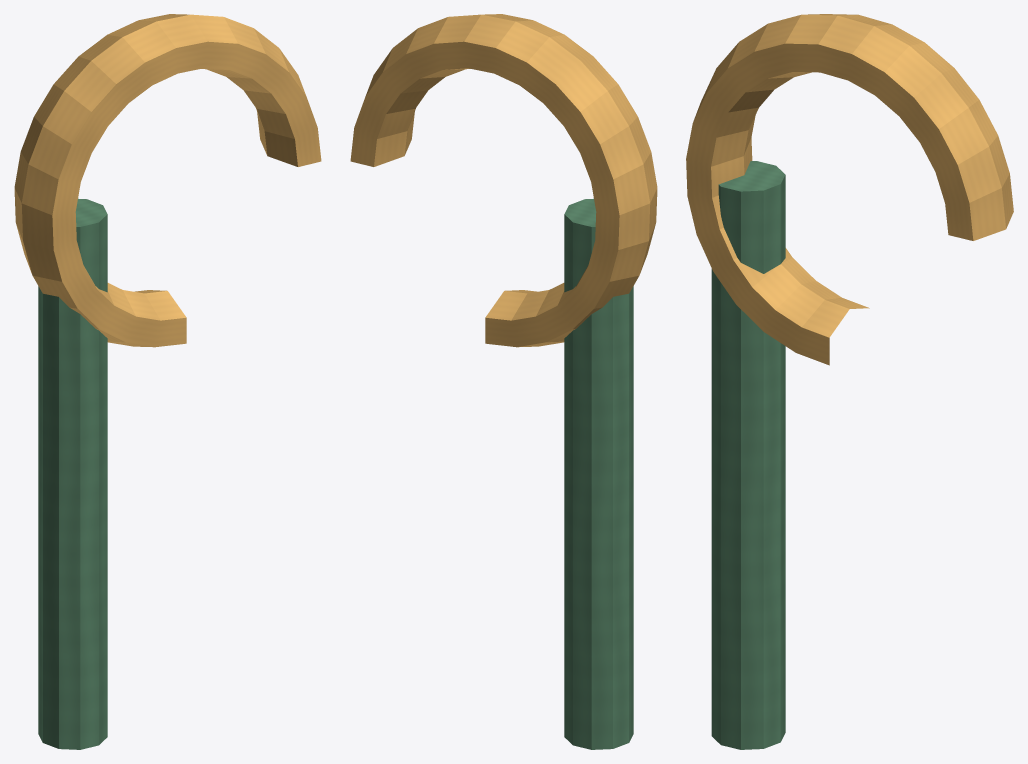
Rendered from atlas100-s009-a05.glb.
3 views of the same model, side by side, from view 1: azimuth 30°, elevation 25°; view 2: azimuth 150°, elevation 25°; view 3: azimuth 330°, elevation 25° (orthographic). The views are drawn at different scales.
Parts seen in each view (by area): view 1: atlas100-s009-a05:part-001, atlas100-s009-a05:part-000; view 2: atlas100-s009-a05:part-001, atlas100-s009-a05:part-000; view 3: atlas100-s009-a05:part-001, atlas100-s009-a05:part-000.
Boxes of the visible parts, x1,y1,x2,y2 form: atlas100-s009-a05:part-001: (14, 14, 321, 347); atlas100-s009-a05:part-000: (38, 198, 107, 749); atlas100-s009-a05:part-001: (350, 14, 657, 347); atlas100-s009-a05:part-000: (564, 198, 633, 749); atlas100-s009-a05:part-001: (686, 14, 1013, 365); atlas100-s009-a05:part-000: (711, 161, 785, 749).
Size of the model in its own units: 0.3707 by 0.8402 by 0.0832.
Materials: 2 (2 with a texture image).
